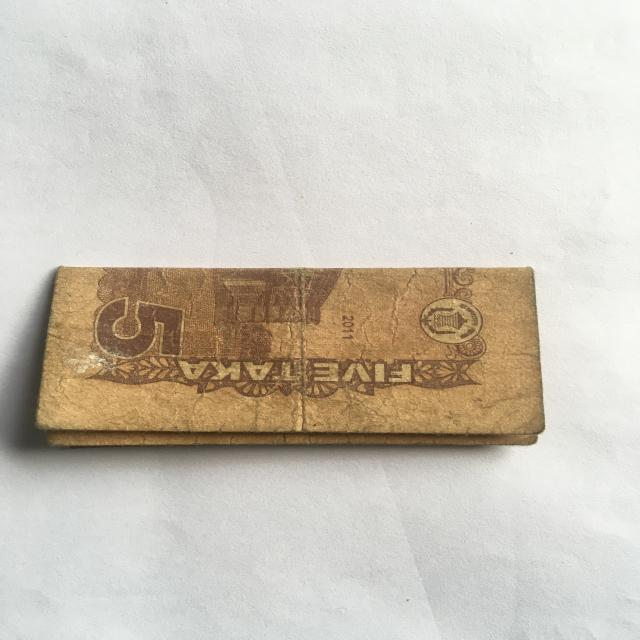Taka: (41, 233, 574, 452)
